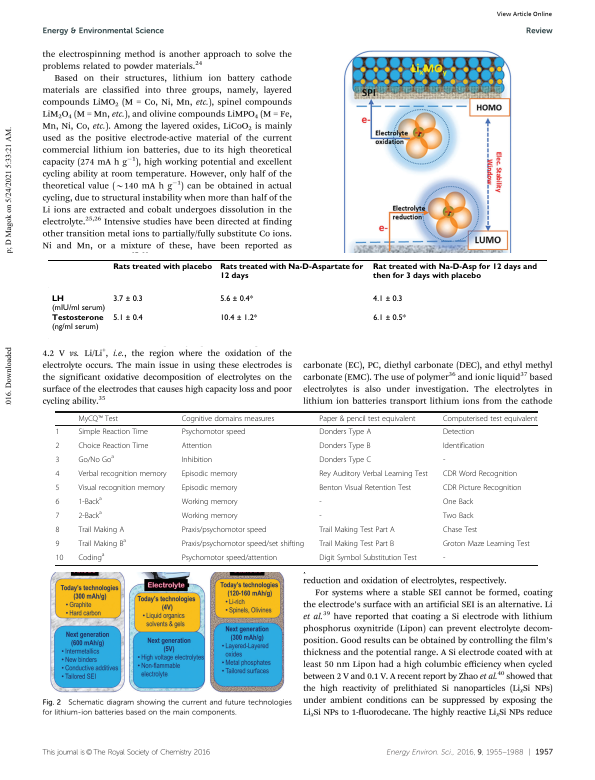borderless: (55, 410, 538, 565), (46, 258, 548, 340)
cell: (372, 263, 537, 281), (219, 263, 364, 281), (181, 539, 305, 549), (318, 469, 429, 479), (50, 294, 106, 313), (318, 553, 418, 563), (50, 314, 104, 332), (181, 553, 278, 563), (318, 483, 412, 493), (112, 263, 213, 272), (77, 469, 167, 479), (77, 483, 166, 493), (442, 539, 531, 549), (318, 414, 416, 423), (442, 414, 538, 423), (181, 525, 267, 535), (181, 414, 275, 423), (442, 483, 523, 493), (318, 525, 396, 535), (318, 539, 395, 549), (442, 469, 518, 479), (77, 427, 149, 437), (77, 441, 149, 451), (181, 427, 246, 437), (77, 537, 127, 549), (181, 497, 239, 507), (181, 511, 239, 521), (181, 469, 238, 479), (181, 483, 238, 493), (318, 427, 372, 437), (318, 455, 372, 465), (318, 441, 371, 451), (77, 525, 125, 535), (77, 453, 115, 465), (442, 441, 485, 451), (219, 313, 258, 323), (77, 414, 119, 423), (442, 525, 478, 535), (219, 294, 254, 304), (372, 313, 406, 323), (77, 551, 105, 563), (442, 427, 475, 437), (181, 441, 213, 451), (181, 455, 213, 465), (442, 497, 474, 507), (442, 511, 474, 521), (77, 495, 103, 507), (77, 509, 103, 521), (112, 294, 143, 304), (372, 294, 403, 304), (112, 313, 143, 323), (55, 553, 64, 563), (54, 427, 60, 437), (54, 441, 60, 451), (54, 455, 60, 465), (55, 469, 60, 479), (55, 483, 60, 493), (55, 497, 60, 507), (318, 497, 323, 507), (55, 511, 60, 521), (318, 511, 323, 521), (55, 525, 60, 535), (55, 539, 60, 549), (442, 455, 446, 465), (442, 553, 446, 563)
